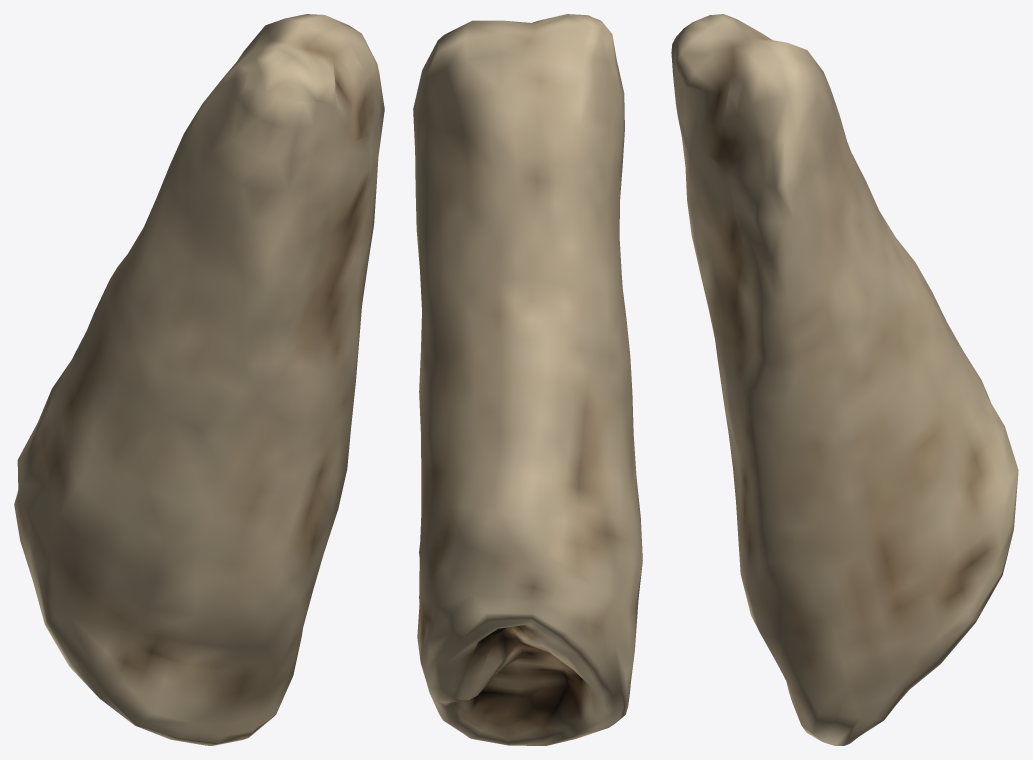
Rendered from Upper_Incisor2.glb.
The picture shows the model from 3 angles, left to right: view 1: azimuth 30°, elevation 25°; view 2: azimuth 150°, elevation 25°; view 3: azimuth 270°, elevation 25°; orthographic projection. The views are drawn at different scales.
Visible parts, largest first — view 1: Upper_Incisor2.glb; view 2: Upper_Incisor2.glb; view 3: Upper_Incisor2.glb.
Part boxes in pixels (x1=…): Upper_Incisor2.glb: x1=14, y1=14, x2=384, y2=745; Upper_Incisor2.glb: x1=413, y1=14, x2=642, y2=745; Upper_Incisor2.glb: x1=671, y1=14, x2=1018, y2=745.
Bounding box in the file's own units: 0.015 × 0.0373 × 0.0165.
Materials: 1 (1 with a texture image).
